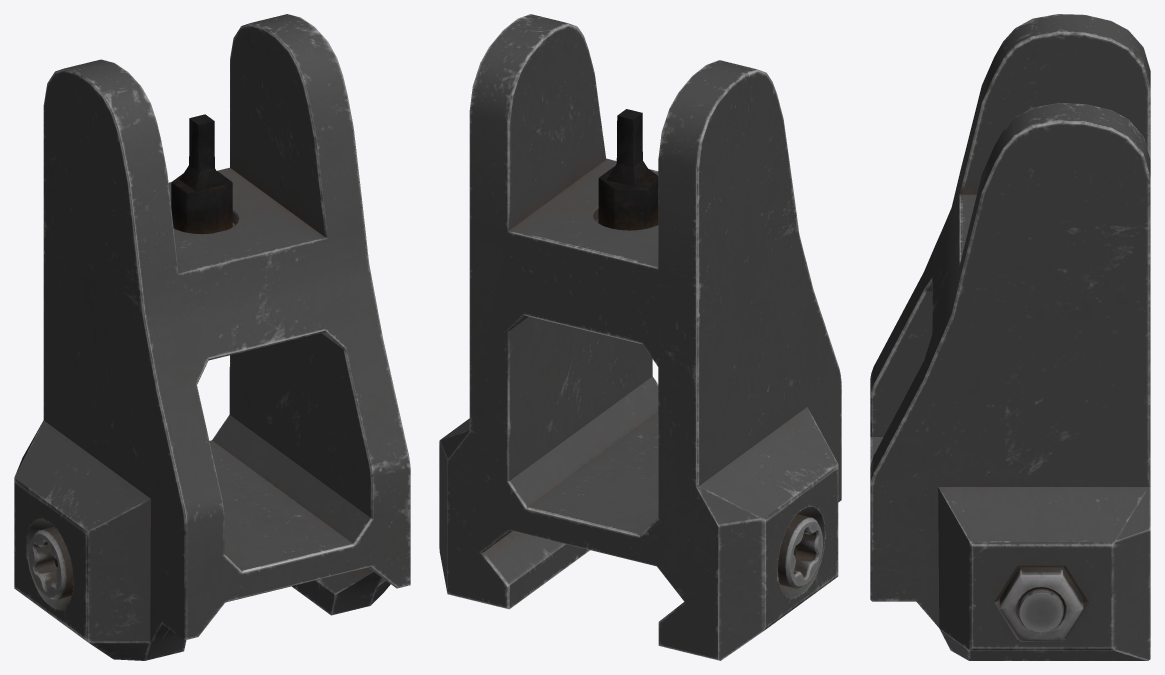
The model's file is IronSights_1_F.glb.
3 views of the same model, side by side, from view 1: azimuth 30°, elevation 25°; view 2: azimuth 150°, elevation 25°; view 3: azimuth 270°, elevation 25° (orthographic). The views are drawn at different scales.
Visible parts, largest first — view 1: IronSights_1_F; view 2: IronSights_1_F; view 3: IronSights_1_F.
Part boxes in pixels (box(x1,y1,x2,y2)): IronSights_1_F: box(14, 14, 410, 660); IronSights_1_F: box(439, 14, 841, 660); IronSights_1_F: box(870, 14, 1150, 660).
Size of the model in its own units: 0.0374 by 0.0554 by 0.0266.
Materials: 1 (1 with a texture image).
